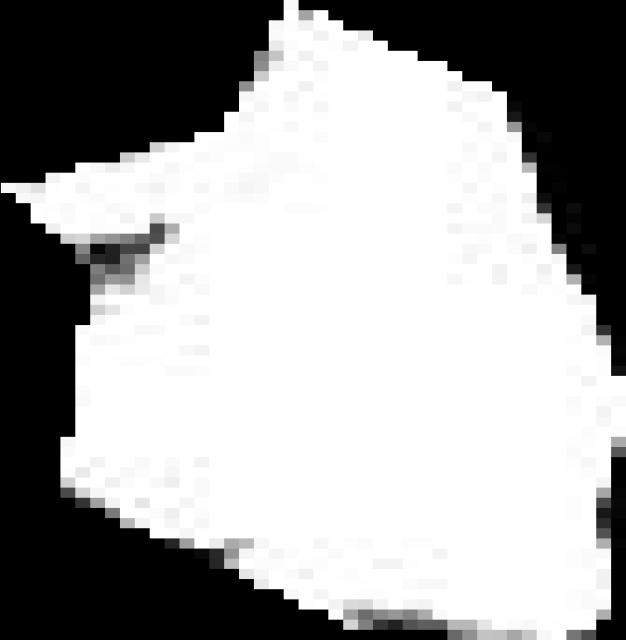tumor_good_chance: (1, 0, 626, 640)
